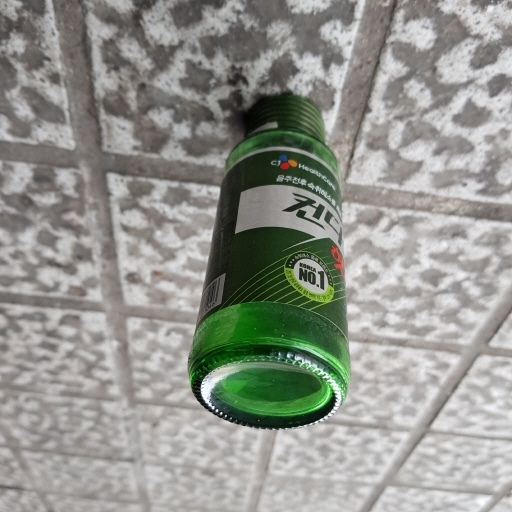Glass_4: (180, 92, 351, 434)
